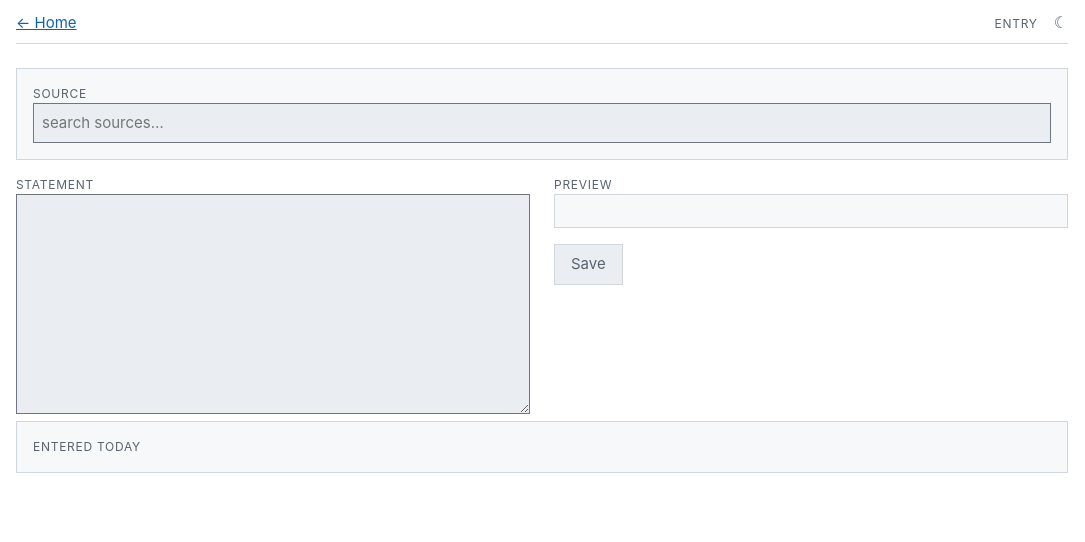
Test: the entry screen › offers create only under an empty search result
expect the button "create this source" is not shown: met
Type "zzz" into the field labelled "search sources".
click(542, 123); type("zzz")  # box [33,102,1051,143]
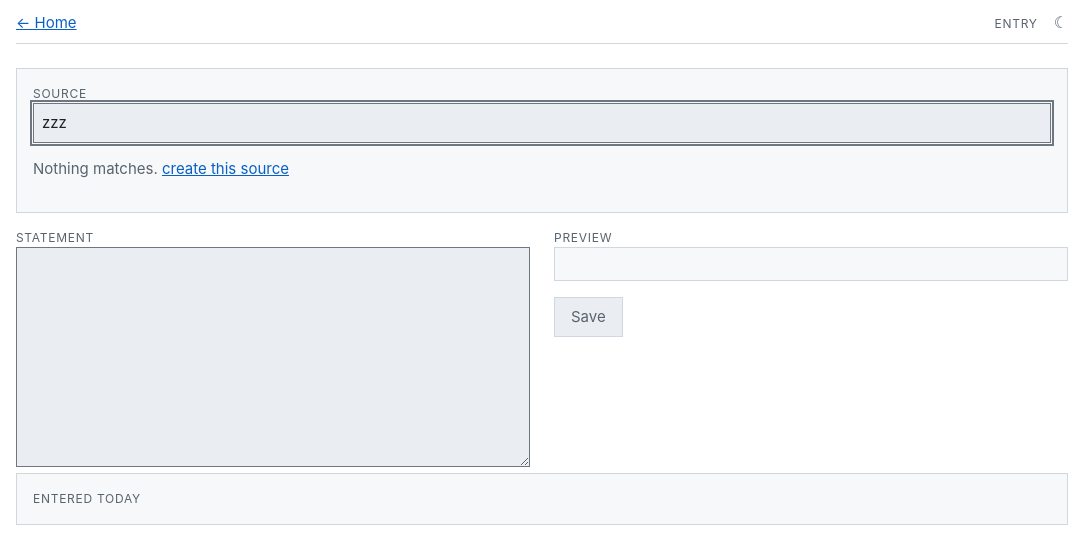
expect the button "create this source" is shown: met, box [162,158,289,180]
